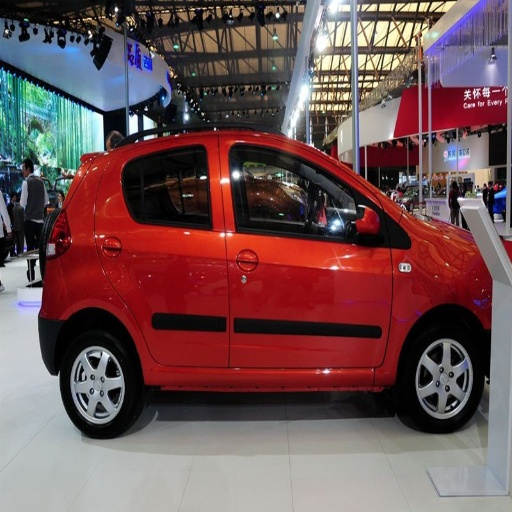back_right_door: (99, 142, 228, 374)
